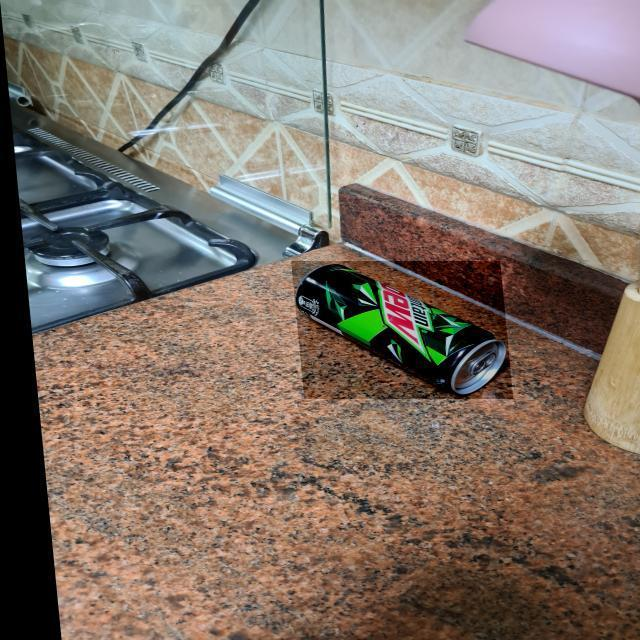trash: (288, 255, 504, 401)
